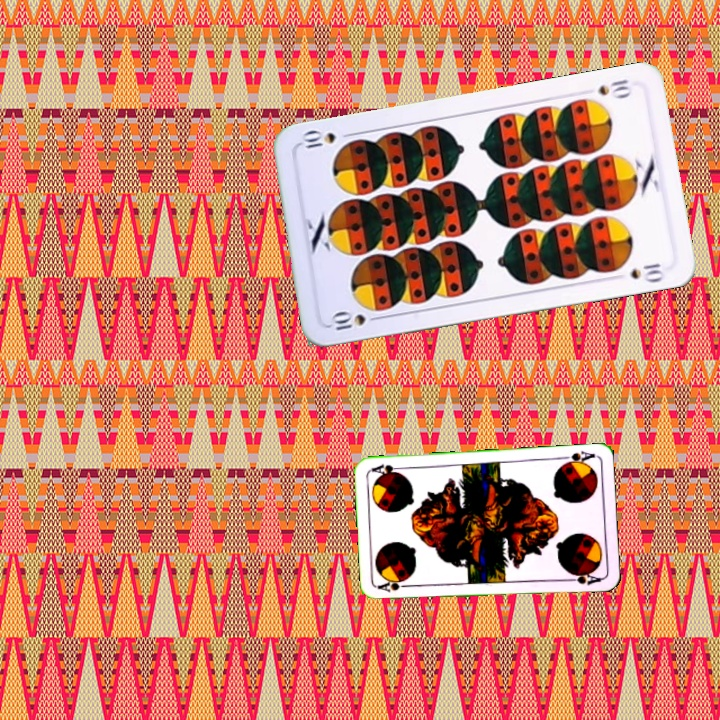S10: (327, 309, 385, 333), (594, 75, 633, 101)
SA: (556, 447, 597, 468), (375, 579, 415, 595)
